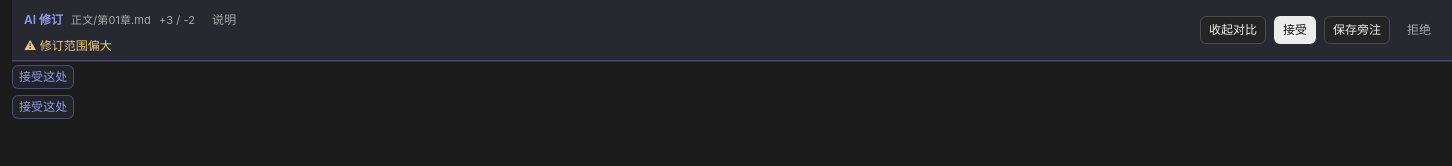
Test: 面板自己接住的漂移拒写同样不提示可重试
Click the button "接受" at (1295,30), box left=1274, top=16, right=1316, bottom=44
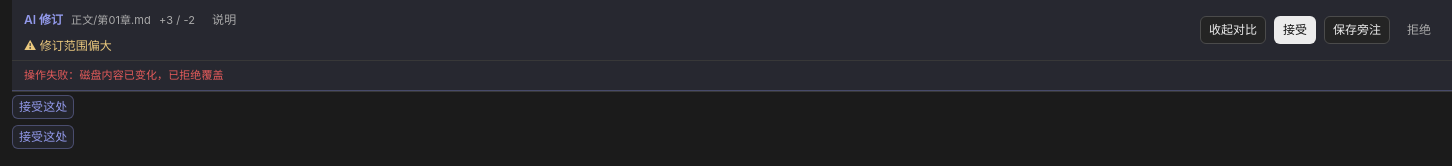
Expected: the message "操作失败：磁盘内容已变化，已拒绝覆盖" is shown, left=12, top=60, right=1451, bottom=90
